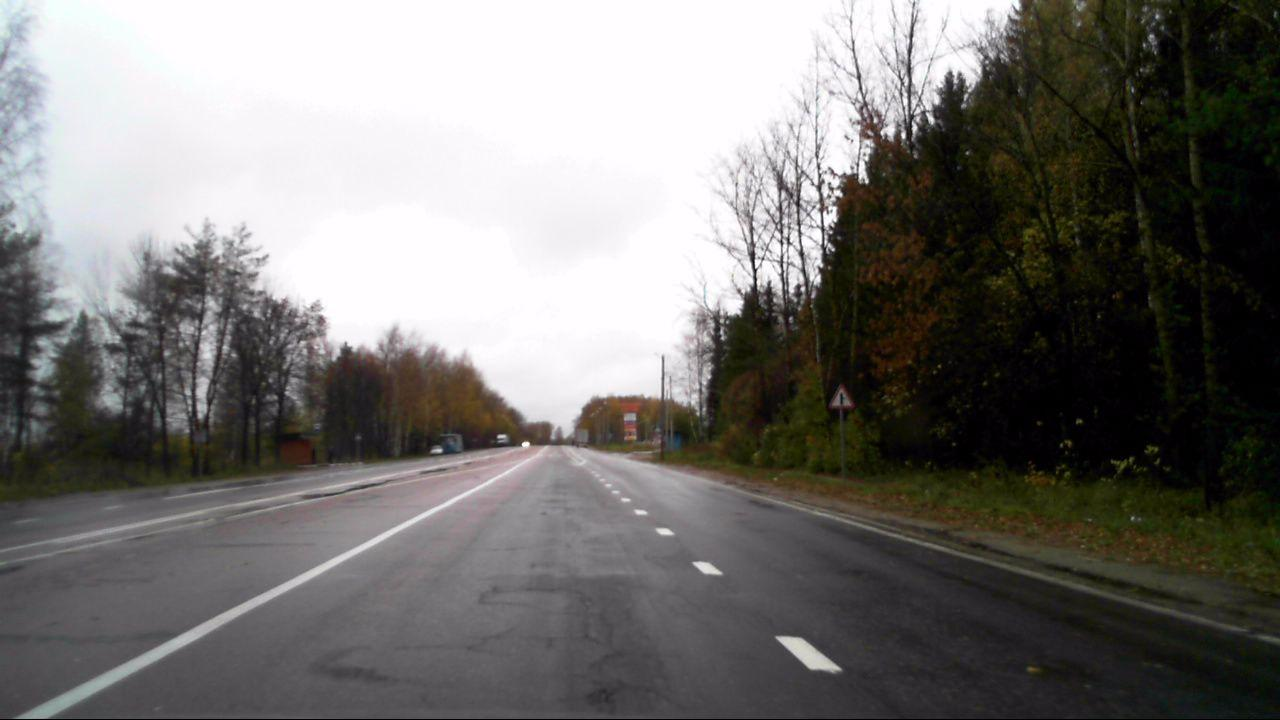road_sign: (827, 383, 857, 408)
